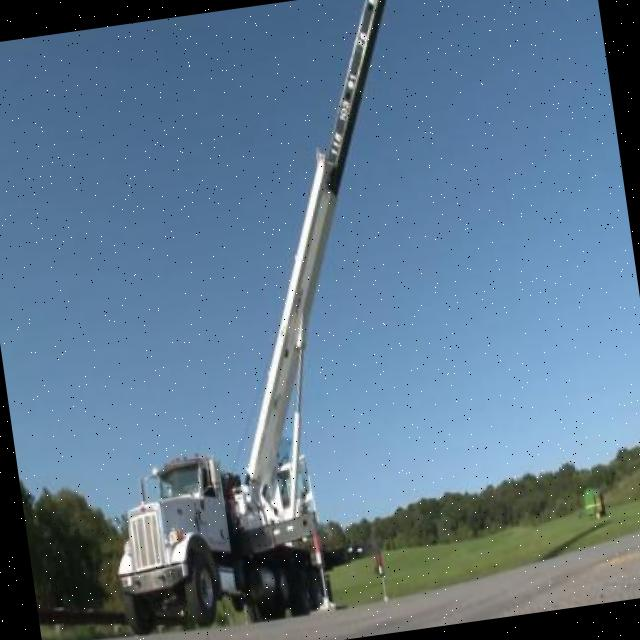Mobile Crane: (33, 0, 469, 640)
